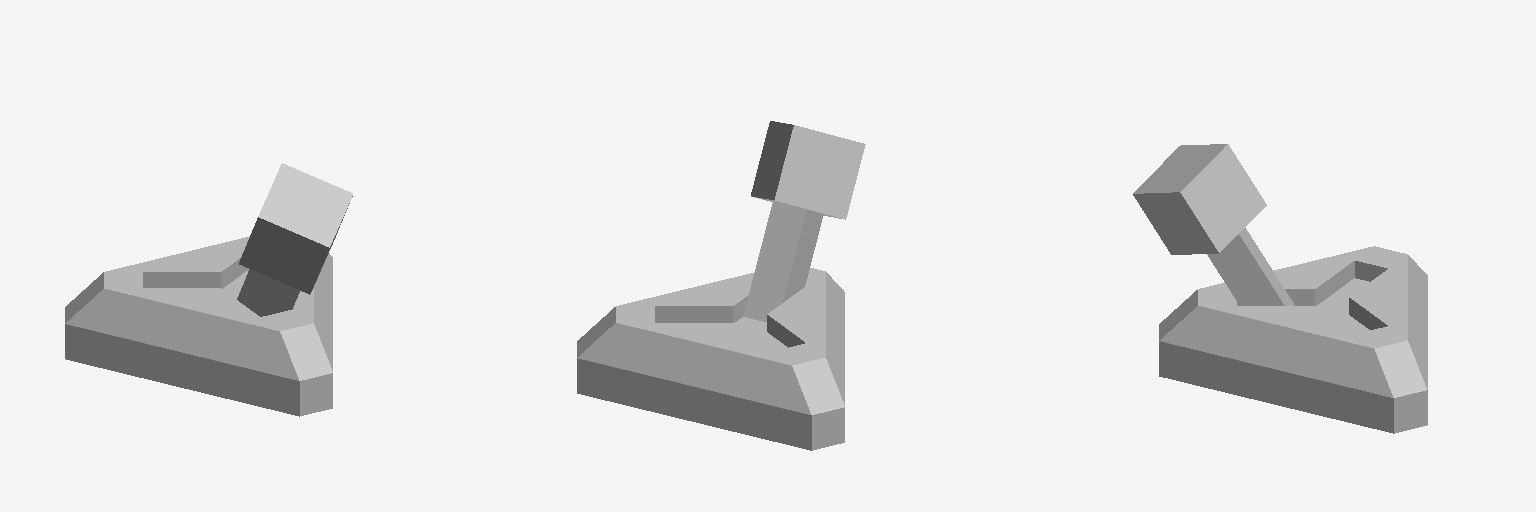
The model's file is lever_4state_1.obj.
3 views of the same model, side by side, from view 1: azimuth 30°, elevation 25°; view 2: azimuth 150°, elevation 25°; view 3: azimuth 270°, elevation 25° (orthographic).
Visible parts, largest first — view 1: 4-STATE_Circle.005, LEVER_Cube.049; view 2: 4-STATE_Circle.005, LEVER_Cube.049; view 3: 4-STATE_Circle.005, LEVER_Cube.049.
Part boxes in pixels (x1,y1,x2,y2): 4-STATE_Circle.005: (65, 236, 332, 416); LEVER_Cube.049: (237, 163, 352, 316); 4-STATE_Circle.005: (577, 268, 844, 450); LEVER_Cube.049: (743, 121, 865, 321); 4-STATE_Circle.005: (1159, 246, 1427, 433); LEVER_Cube.049: (1133, 144, 1294, 305).
Size of the model in its own units: 0.4964 by 0.396 by 0.4723.